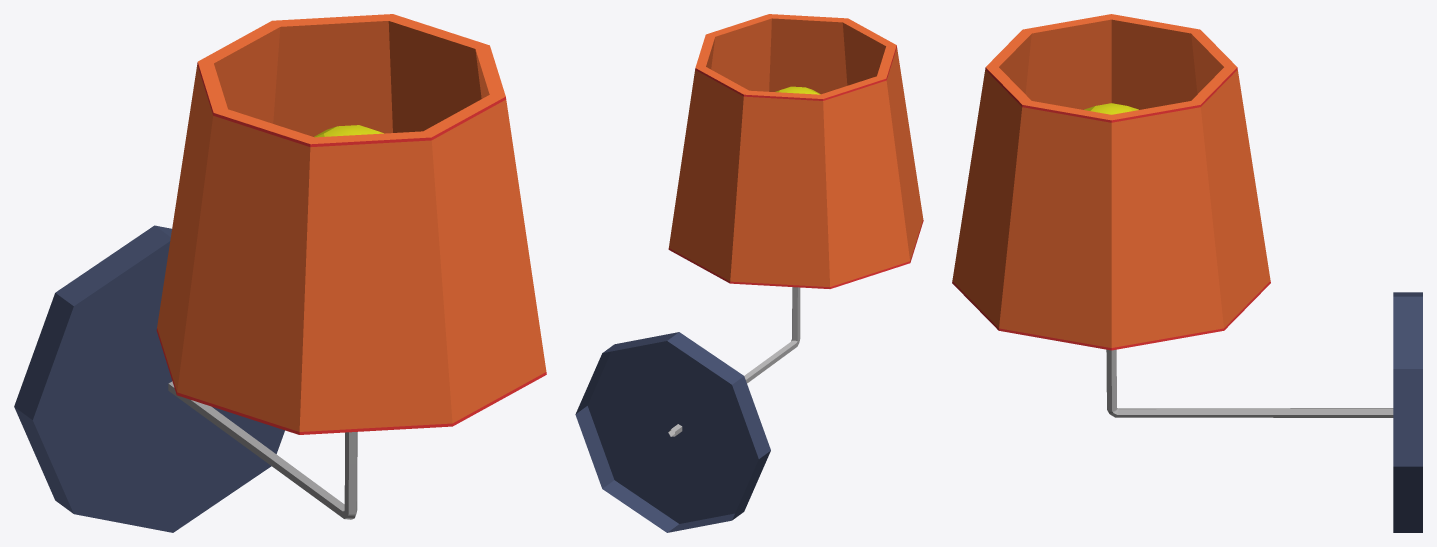
Rendered from Lamp_Wall.fbx.
3 renders of one model, left to right at view 1: azimuth 30°, elevation 25°; view 2: azimuth 150°, elevation 25°; view 3: azimuth 270°, elevation 25°, orthographic. The views are drawn at different scales.
Parts seen in each view (by area): view 1: Wall_Lamp; view 2: Wall_Lamp; view 3: Wall_Lamp.
Part boxes in pixels (box(x1,y1,x2,y2)): Wall_Lamp: box(14, 14, 546, 532); Wall_Lamp: box(575, 14, 923, 532); Wall_Lamp: box(952, 14, 1422, 532).
Size of the model in its own units: 48.5 by 77.43 by 71.61.
